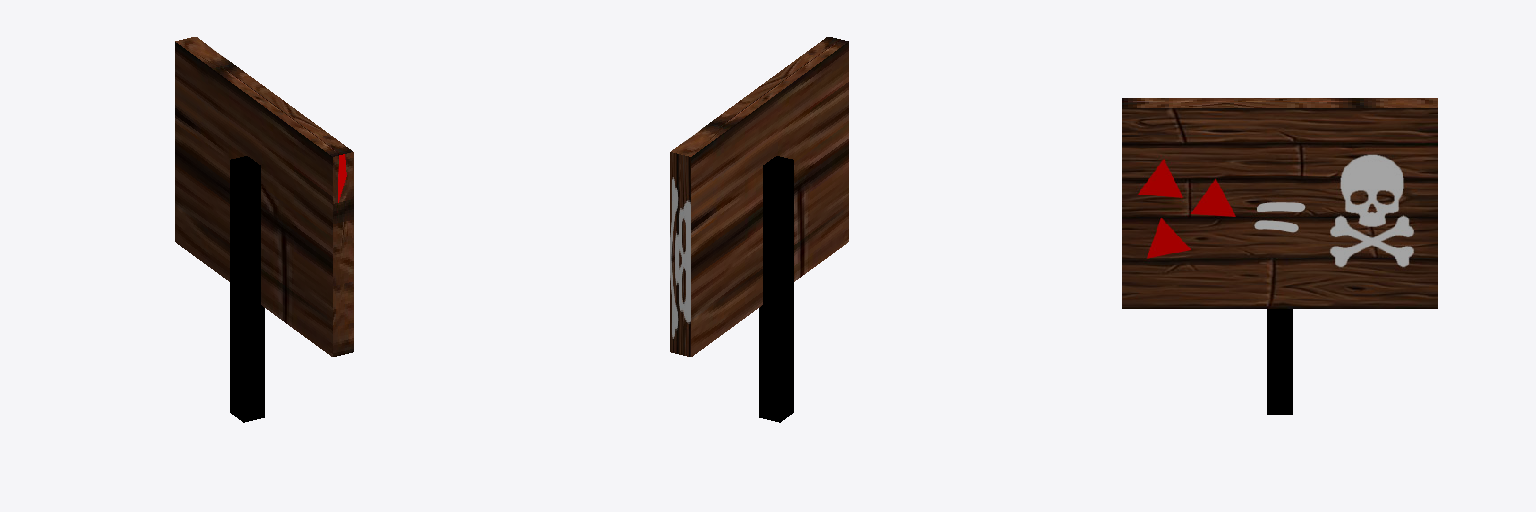
3 renders of one model, left to right at view 1: azimuth 30°, elevation 25°; view 2: azimuth 150°, elevation 25°; view 3: azimuth 270°, elevation 25°, orthographic.
Visible parts, largest first — view 1: Sign SpikeSign, SpikeSign Post; view 2: Sign SpikeSign, SpikeSign Post; view 3: Sign SpikeSign, SpikeSign Post.
Part boxes in pixels (x1,y1,x2,y2): Sign SpikeSign: (175,37,353,356); SpikeSign Post: (230,156,264,422); Sign SpikeSign: (670,37,848,356); SpikeSign Post: (759,156,793,422); Sign SpikeSign: (1122,98,1437,308); SpikeSign Post: (1267,309,1292,414).
Size of the model in its own units: 0.4025 by 3.2 by 2.91.
Materials: 2 (1 with a texture image).